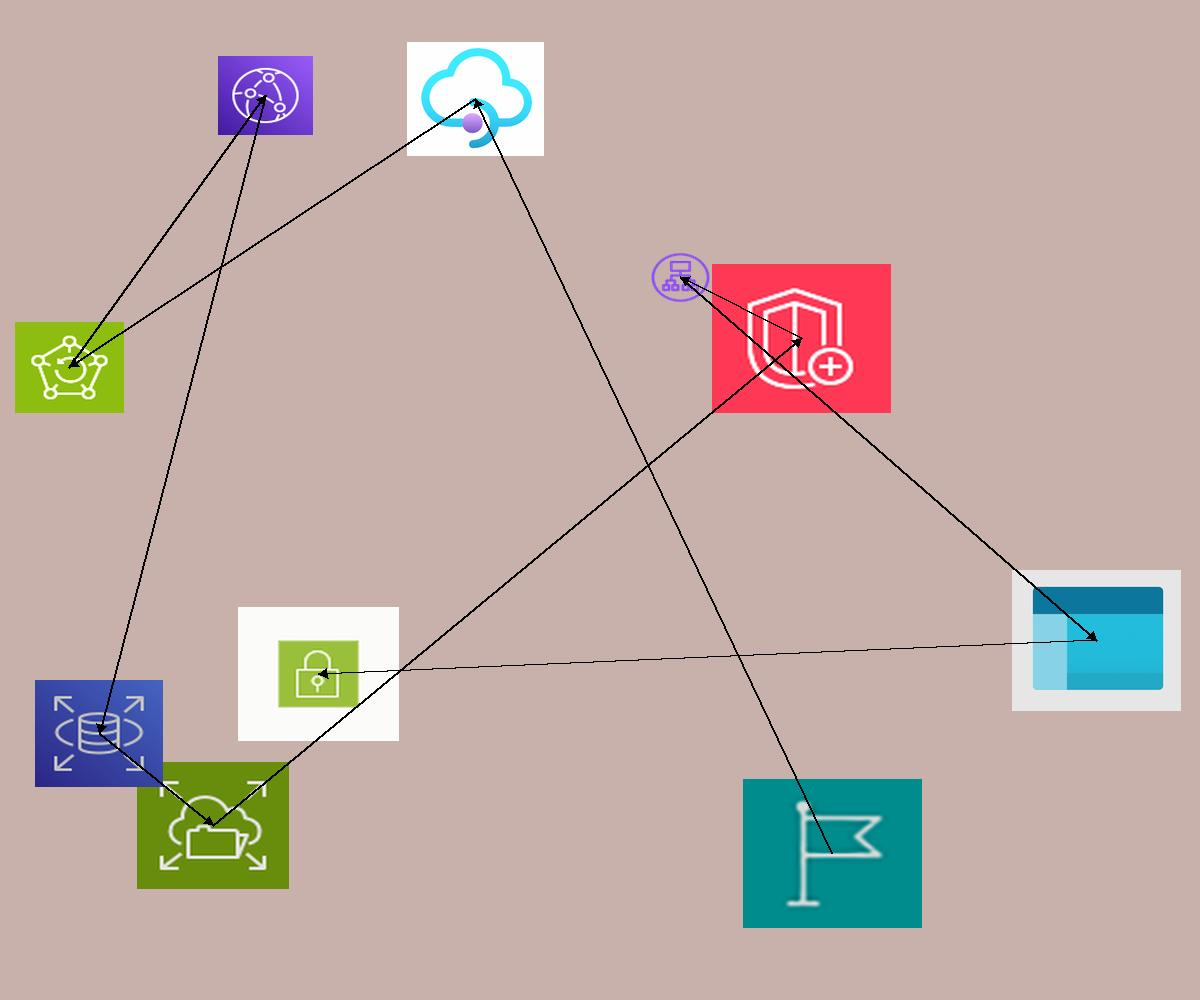AWS-Backup: (15, 322, 124, 413)
AWS-CloudFront: (218, 56, 313, 135)
AWS-EFS: (137, 762, 289, 889)
AWS-Public-subnet: (238, 607, 399, 741)
AWS-RDS: (35, 680, 163, 787)
AWS-Region: (743, 779, 922, 928)
AWS-Res_Elastic-Load-Balancing_Application-Load-Balancer: (649, 251, 712, 304)
AWS-Shield: (712, 264, 891, 413)
Azure_api_gateway: (407, 42, 544, 156)
Azure_management-portal: (1012, 570, 1181, 711)
